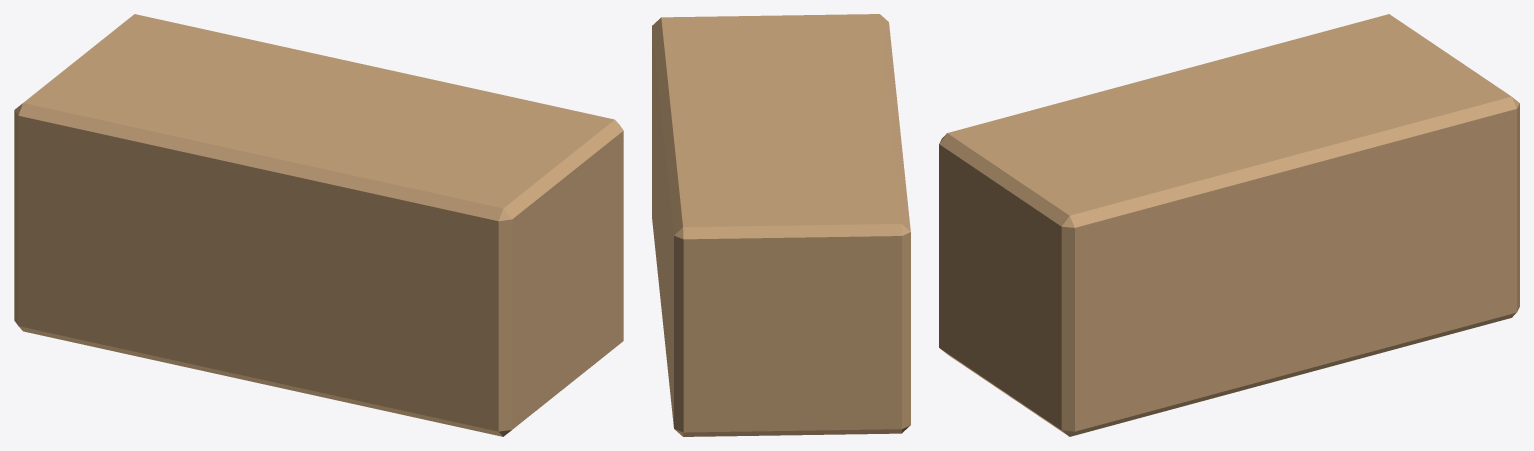
File: Prop_Box_CardBoard_B.fbx
The picture shows the model from 3 angles, left to right: view 1: azimuth 30°, elevation 25°; view 2: azimuth 150°, elevation 25°; view 3: azimuth 270°, elevation 25°; orthographic projection. The views are drawn at different scales.
Parts seen in each view (by area): view 1: Prop_Box_CardBoard_B; view 2: Prop_Box_CardBoard_B; view 3: Prop_Box_CardBoard_B.
Boxes of the visible parts, x1=… form: Prop_Box_CardBoard_B: x1=14, y1=14, x2=623, y2=436; Prop_Box_CardBoard_B: x1=652, y1=14, x2=910, y2=436; Prop_Box_CardBoard_B: x1=939, y1=14, x2=1519, y2=436.
Size of the model in its own units: 61.32 by 52.12 by 25.77.
